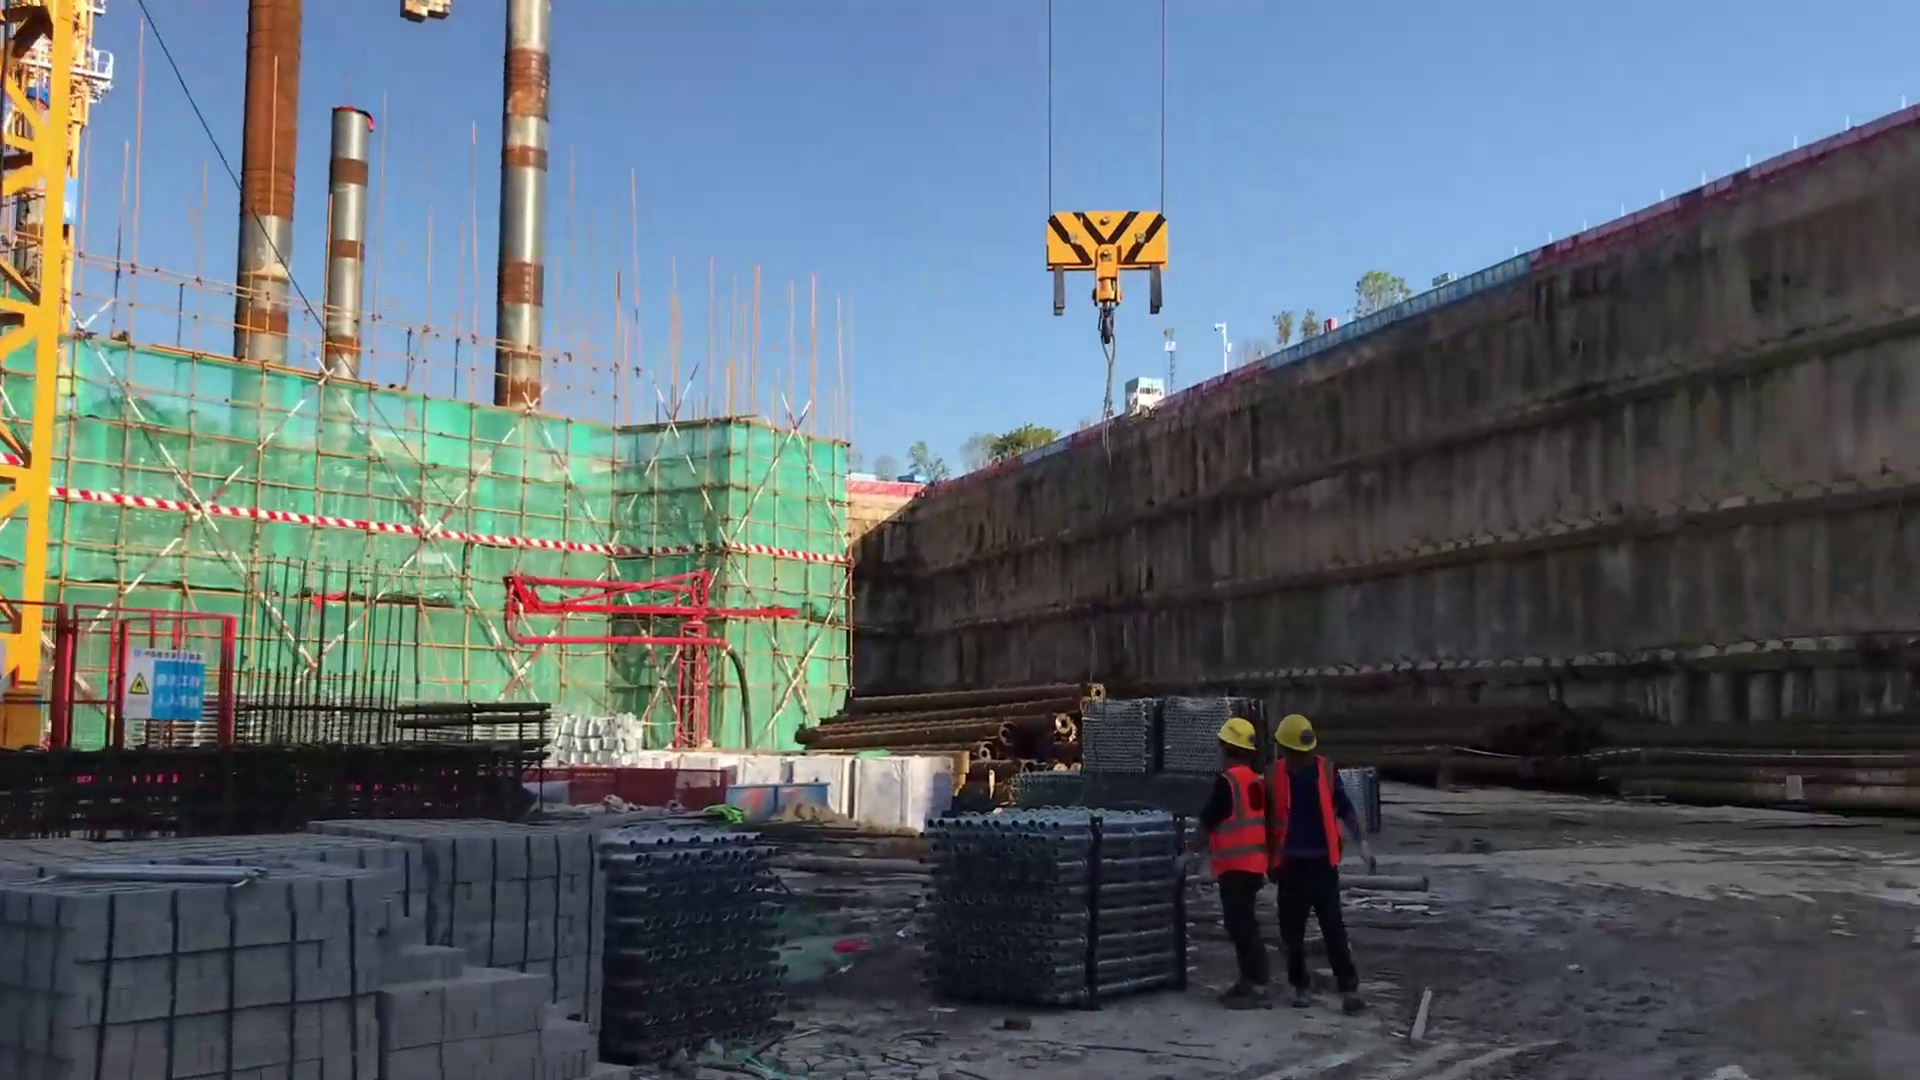helmet: (1276, 696, 1323, 749), (1216, 711, 1265, 754)
hook: (1040, 199, 1168, 316)
scaffold: (905, 793, 1225, 1006), (574, 804, 814, 1033), (1071, 674, 1250, 770)
slogan: (1238, 229, 1567, 368)
vest: (1251, 754, 1342, 872), (1205, 764, 1265, 876)
